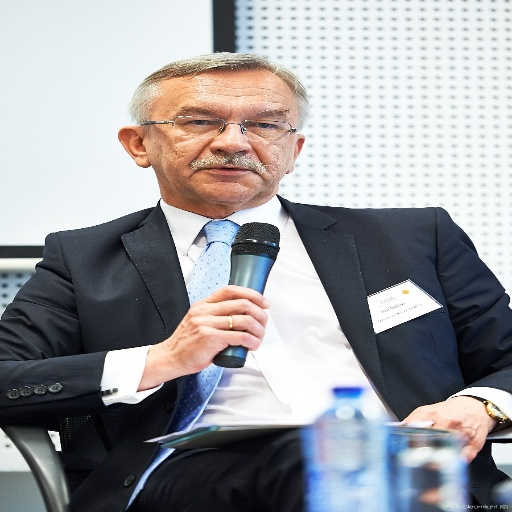hand: (162, 284, 271, 372), (414, 390, 506, 449)
